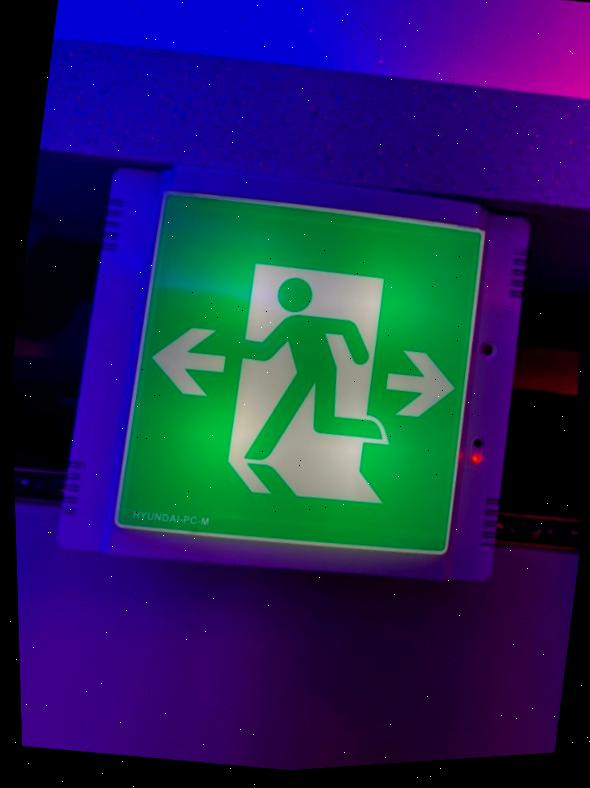emergency_exit: (111, 186, 494, 570)
